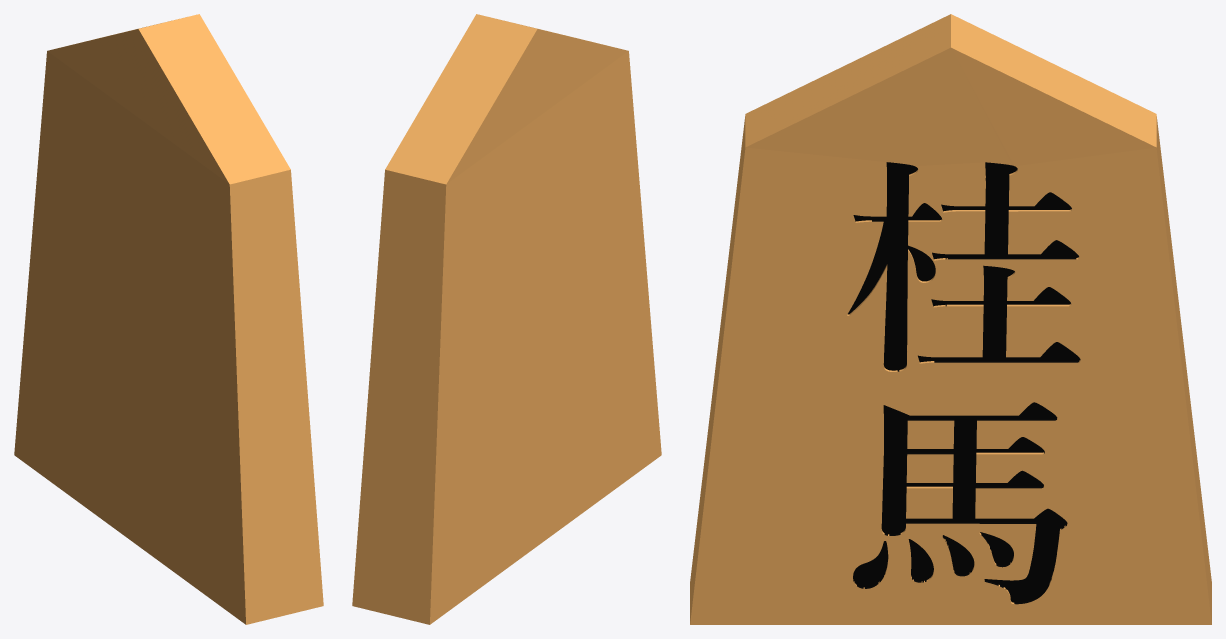
File: Knight.fbx
3 views of the same model, side by side, from view 1: azimuth 30°, elevation 25°; view 2: azimuth 150°, elevation 25°; view 3: azimuth 270°, elevation 25° (orthographic). The views are drawn at different scales.
Parts seen in each view (by area): view 1: Cube; view 2: Cube; view 3: Cube.
Boxes of the visible parts, x1,y1,x2,y2 form: Cube: (14, 14, 323, 624); Cube: (352, 14, 661, 624); Cube: (690, 14, 1211, 624).
Bounding box in the file's own units: 38.67 × 242 × 200.
2 materials, 2 textured.
